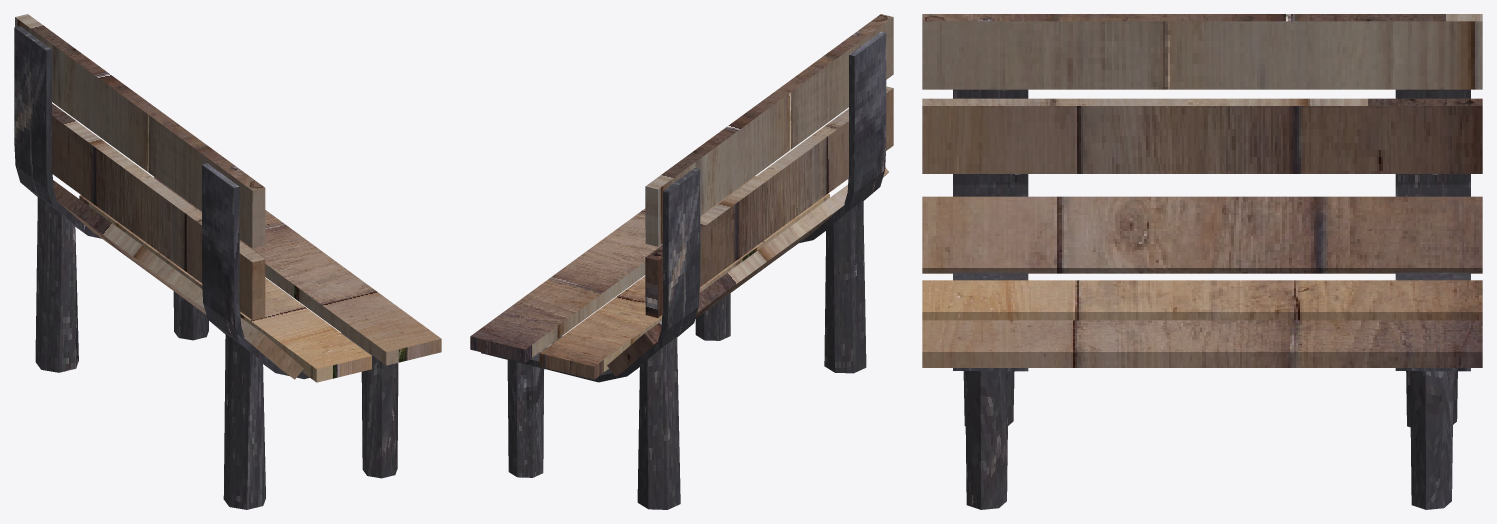
Rendered from bench.glb.
3 views of the same model, side by side, from view 1: azimuth 30°, elevation 25°; view 2: azimuth 150°, elevation 25°; view 3: azimuth 270°, elevation 25° (orthographic). The views are drawn at different scales.
Parts seen in each view (by area): view 1: Cylinder; view 2: Cylinder; view 3: Cylinder.
Boxes of the visible parts, left/top/right/bottom form: Cylinder: left=14, top=14, right=441, bottom=509; Cylinder: left=470, top=14, right=893, bottom=509; Cylinder: left=922, top=14, right=1482, bottom=509.
Size of the model in its own units: 1.71 by 2.83 by 3.61.
2 materials, 2 textured.
